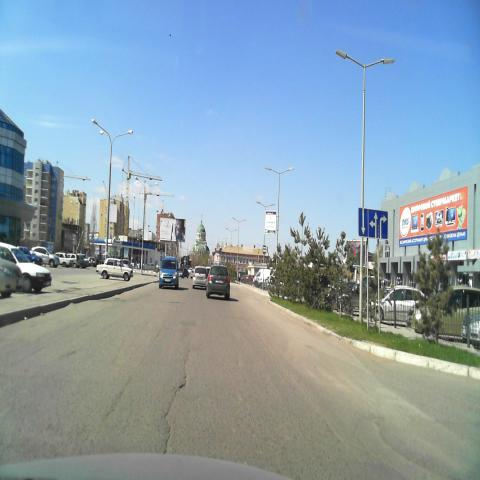5_15_7: (358, 206, 388, 241)
